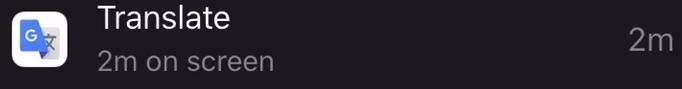name: (90, 1, 237, 36)
time: (91, 47, 144, 75)
